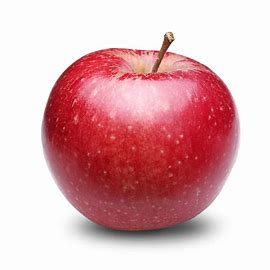apple: (38, 39, 241, 231)
